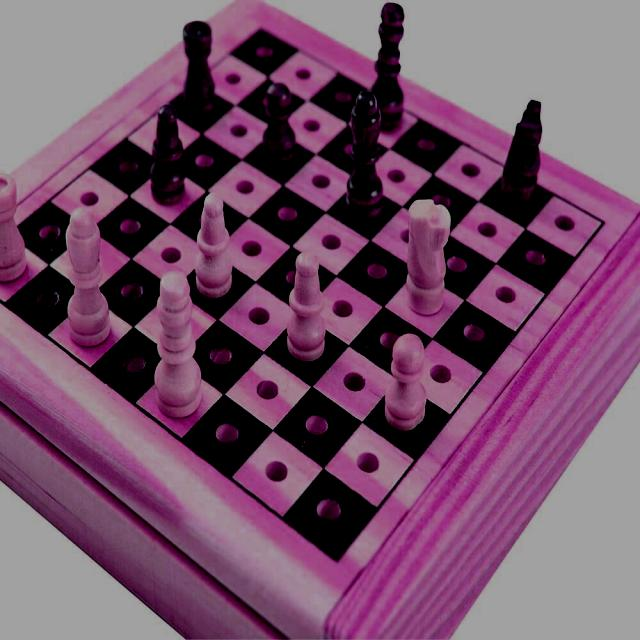chessboard: (0, 22, 608, 564)
